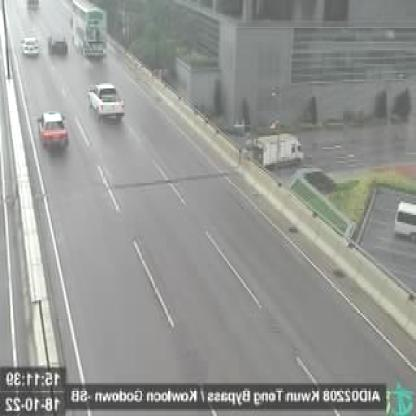Bus: (70, 1, 109, 62)
Car: (87, 83, 124, 125), (36, 111, 70, 154), (47, 34, 69, 57), (20, 35, 41, 59)
Truck: (246, 134, 302, 172)
